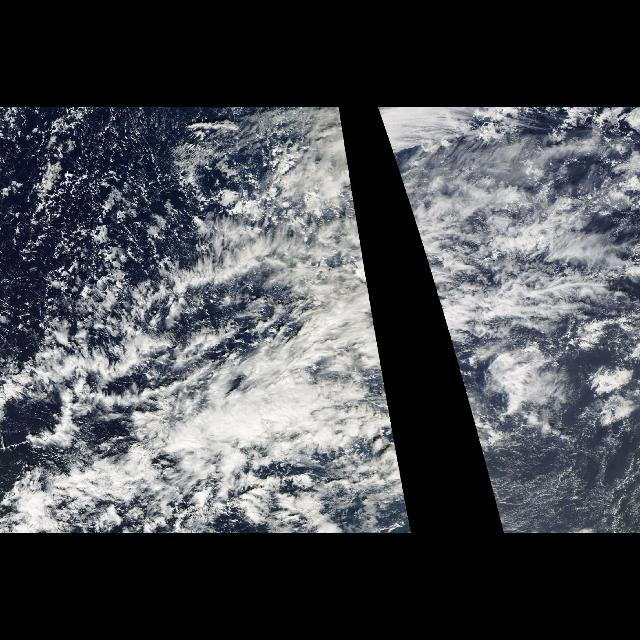Gravel: (0, 107, 274, 383)
Sugar: (498, 416, 640, 534)
